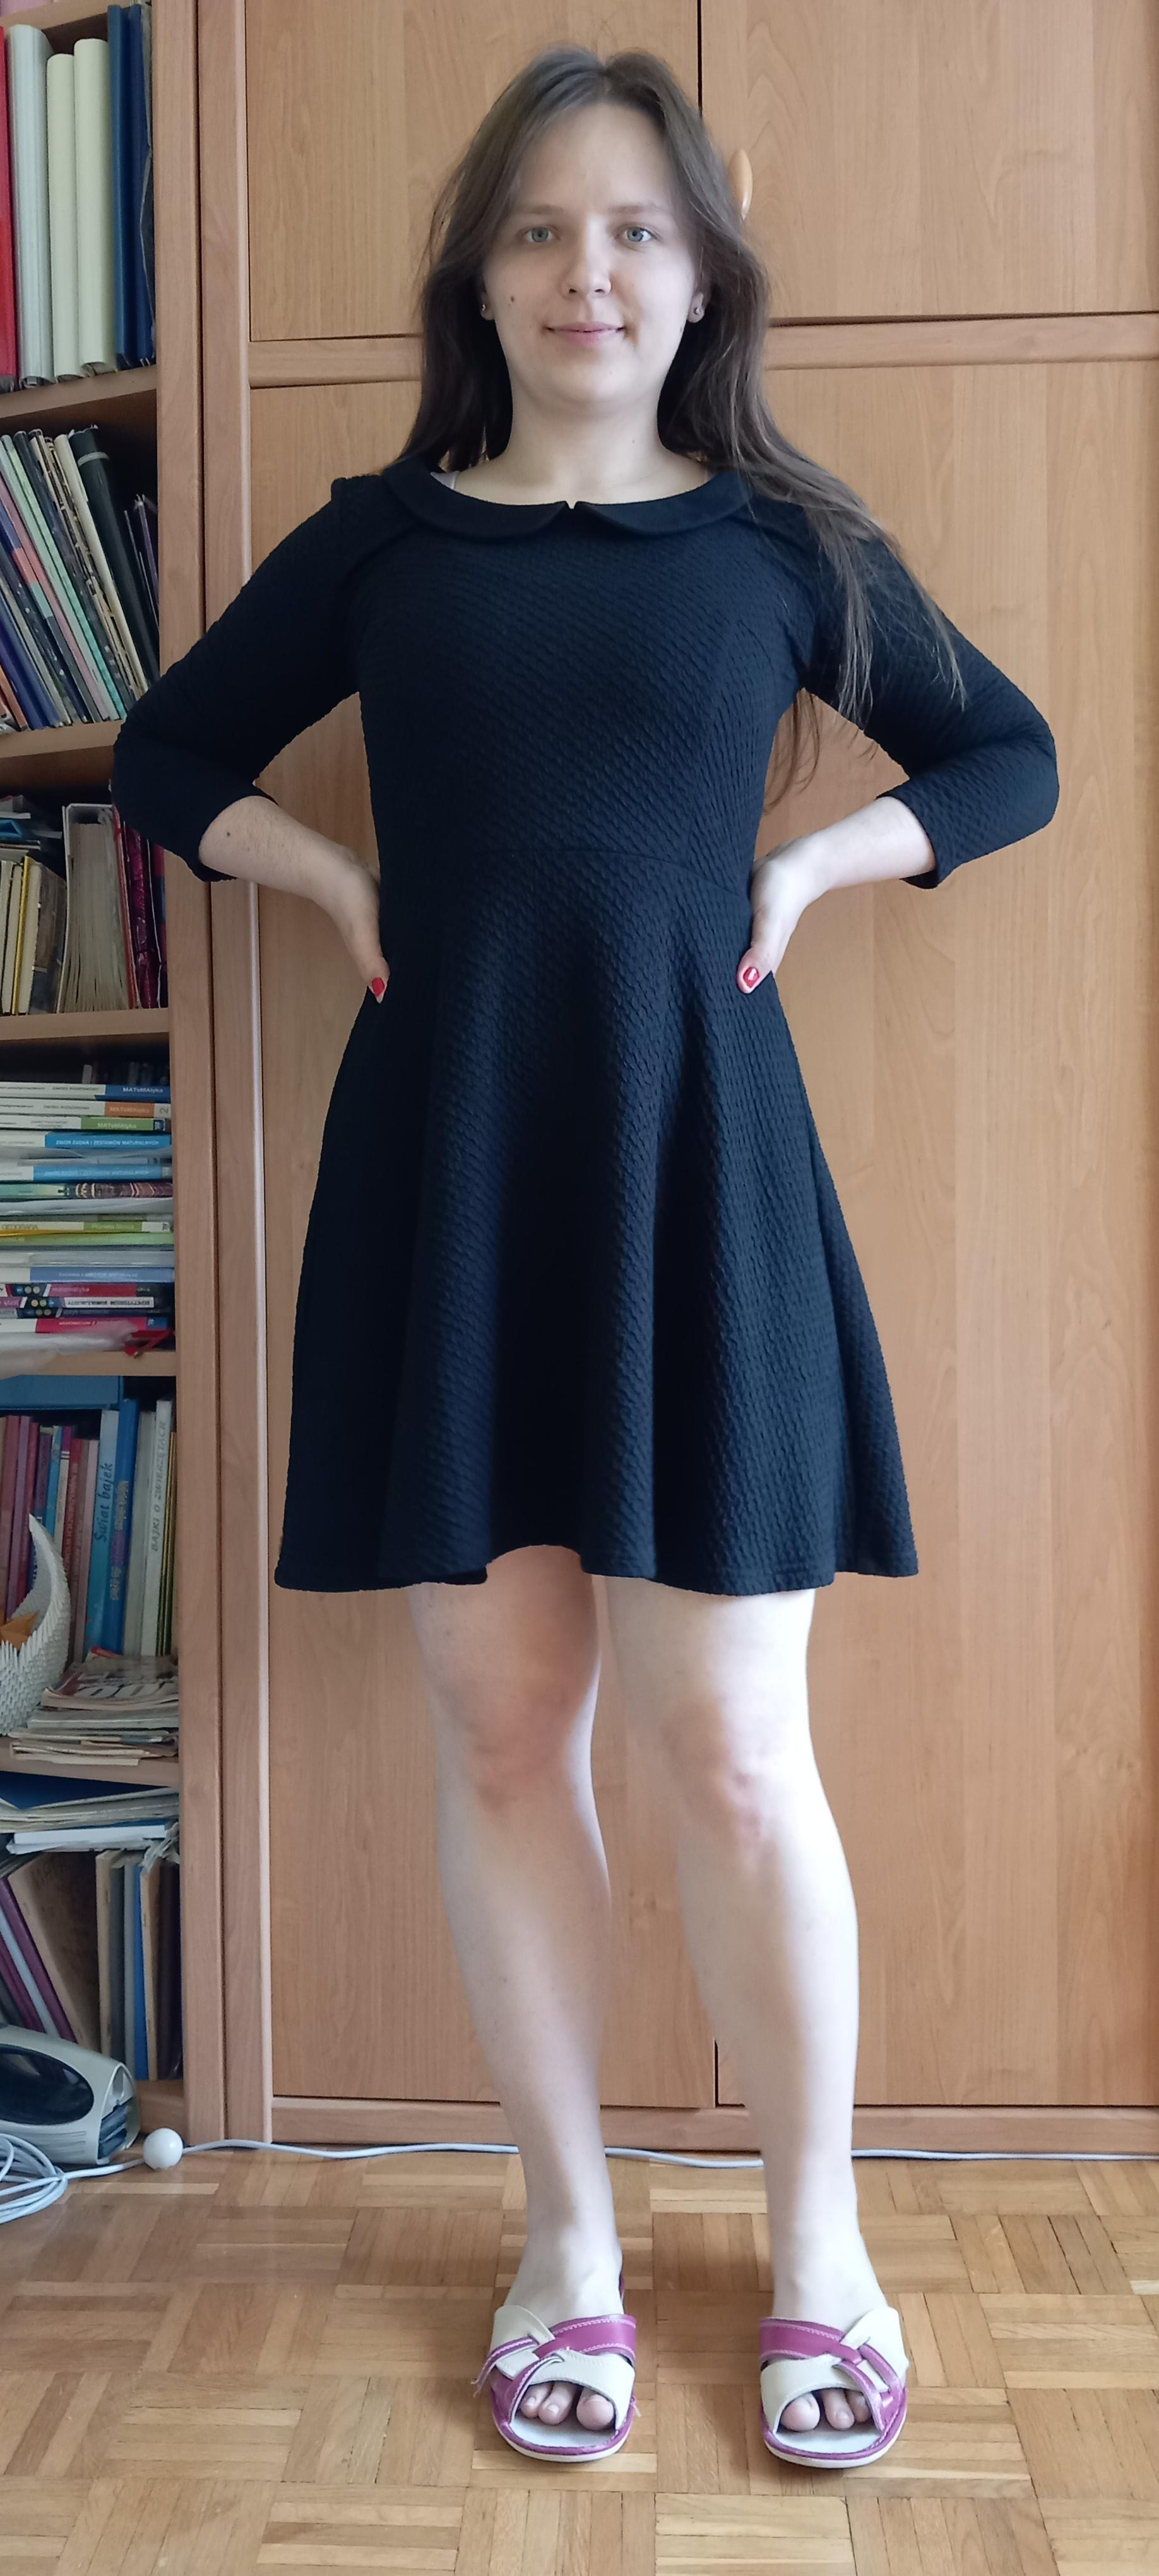dress: (112, 465, 1061, 1597)
